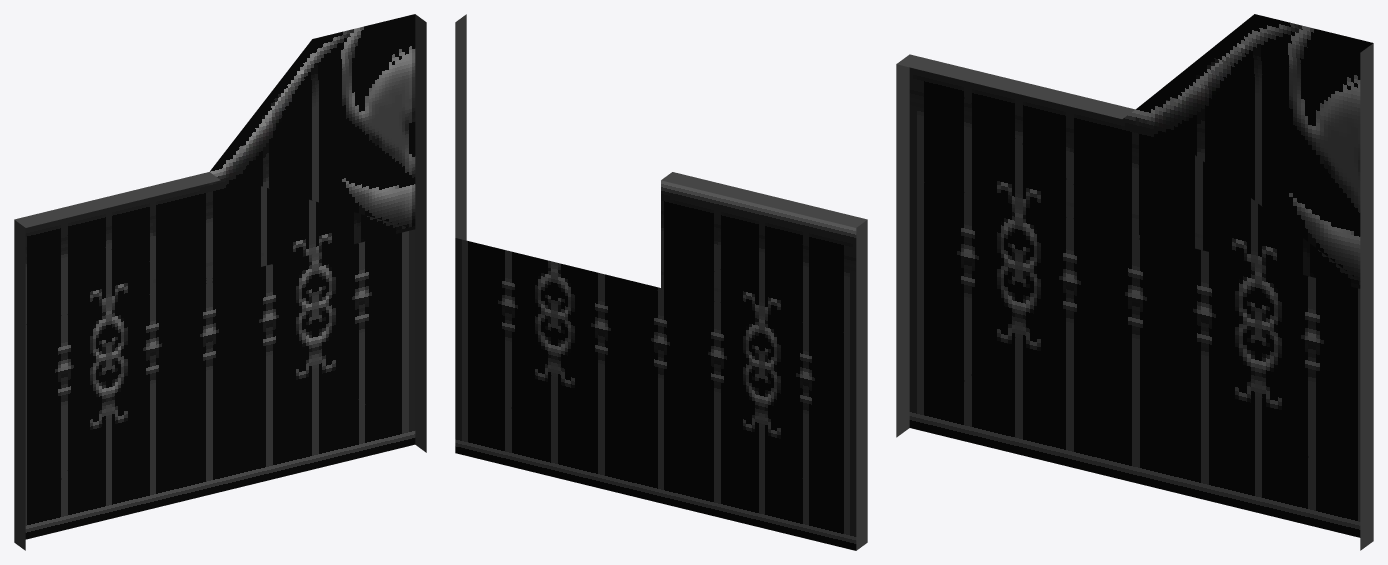
3 renders of one model, left to right at view 1: azimuth 30°, elevation 25°; view 2: azimuth 150°, elevation 25°; view 3: azimuth 330°, elevation 25°, orthographic. The views are drawn at different scales.
Visible parts, largest first — view 1: prim181-left gate; view 2: prim181-left gate; view 3: prim181-left gate.
Boxes of the visible parts, x1,y1,x2,y2 form: prim181-left gate: (14, 14, 426, 550); prim181-left gate: (455, 14, 867, 550); prim181-left gate: (896, 14, 1373, 550).
Bounding box in the file's own units: 499 × 512 × 25.
4 materials, 4 textured.
